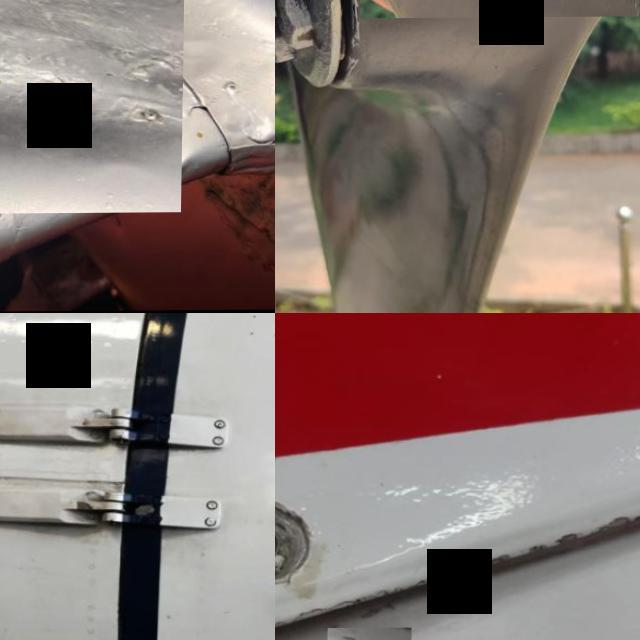Crack: (414, 450, 640, 604), (275, 471, 329, 610)
Dent: (0, 0, 185, 216)
